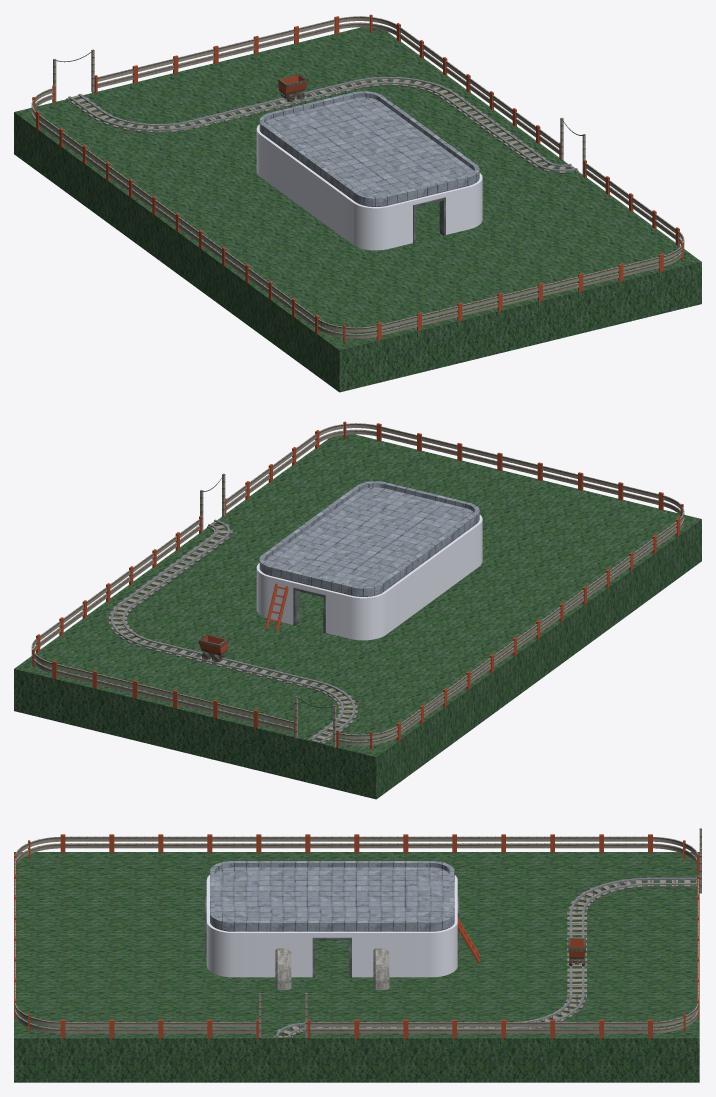
The model's file is demo.obj.
3 views of the same model, one above another, from view 1: azimuth 30°, elevation 25°; view 2: azimuth 150°, elevation 25°; view 3: azimuth 270°, elevation 25° (orthographic). The views are drawn at different scales.
Parts seen in each view (by area): view 1: mergedBlocks; view 2: mergedBlocks; view 3: mergedBlocks.
Part boxes in pixels (x1,y1,x2,y2): mergedBlocks: (14, 14, 701, 392); mergedBlocks: (14, 421, 701, 799); mergedBlocks: (14, 828, 701, 1082).
Size of the model in its own units: 9 by 2.2 by 14.05.
